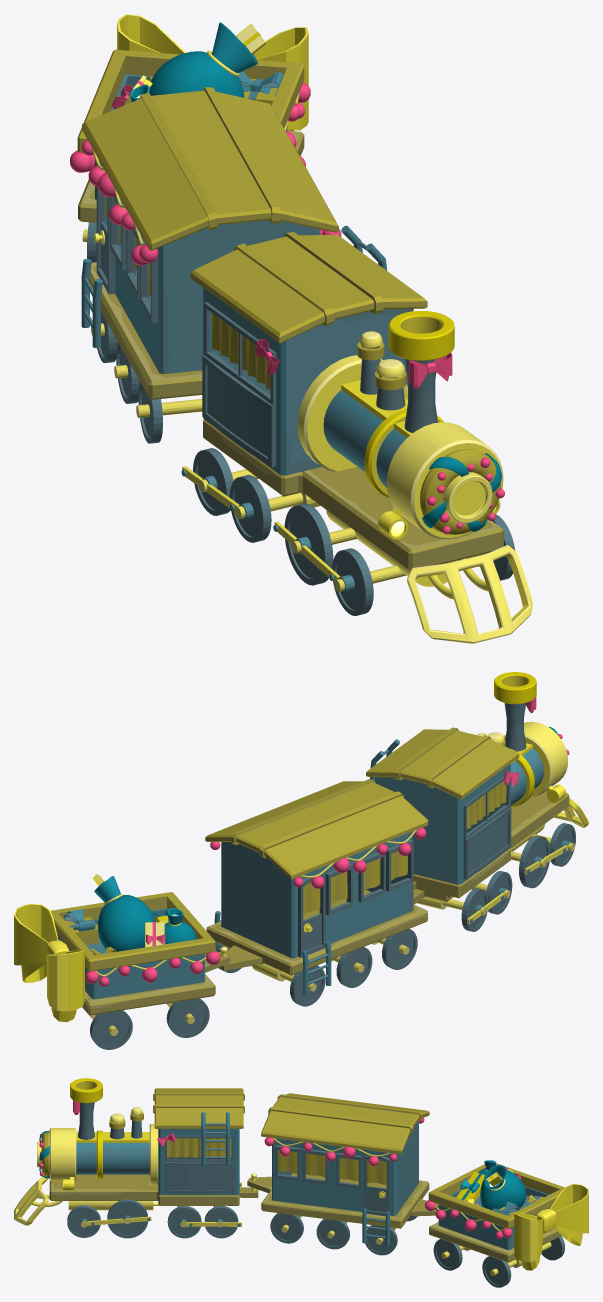
Rendered from toy_christmas_train.glb.
3 renders of one model, top to bottom at view 1: azimuth 30°, elevation 25°; view 2: azimuth 150°, elevation 25°; view 3: azimuth 270°, elevation 25°, orthographic. The views are drawn at different scales.
Parts seen in each view (by area): view 1: Cube.086_12; view 2: Cube.086_12; view 3: Cube.086_12.
Part boxes in pixels (x1=…): Cube.086_12: x1=70, y1=14, x2=532, y2=643; Cube.086_12: x1=14, y1=672, x2=588, y2=1049; Cube.086_12: x1=14, y1=1078, x2=588, y2=1287.
Bounding box in the file's own units: 1.78 × 1.11 × 4.27.
